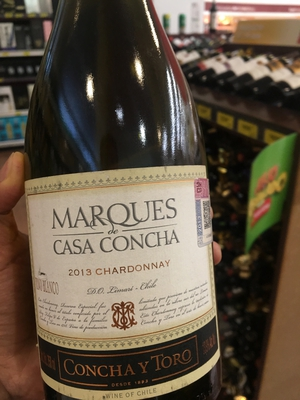marques de casa concha chardonnay: (21, 14, 232, 400)
